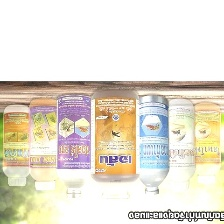insecticide: (87, 84, 144, 214), (54, 91, 93, 202), (132, 91, 171, 198), (158, 96, 197, 194), (26, 96, 64, 193), (0, 102, 34, 189), (188, 100, 222, 185)
